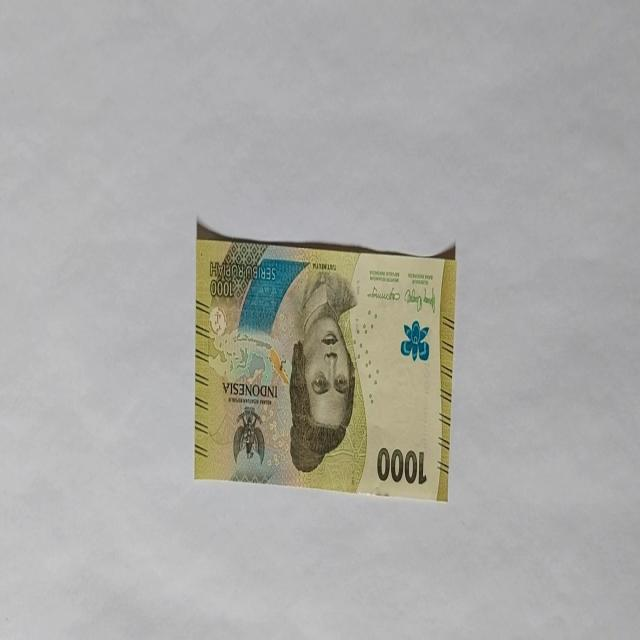seribu rupiah kertas: (194, 223, 456, 501)
